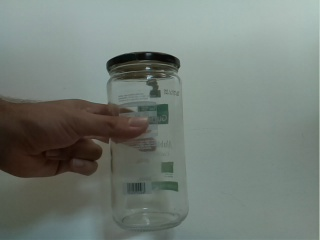pote cristal: (102, 49, 196, 233)
